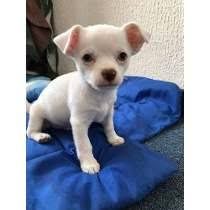chihuahua: (27, 20, 157, 177)
